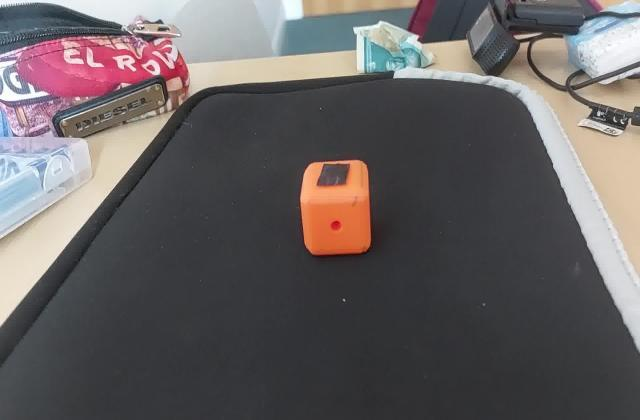black: (312, 162, 354, 188)
cube: (299, 157, 376, 258)
